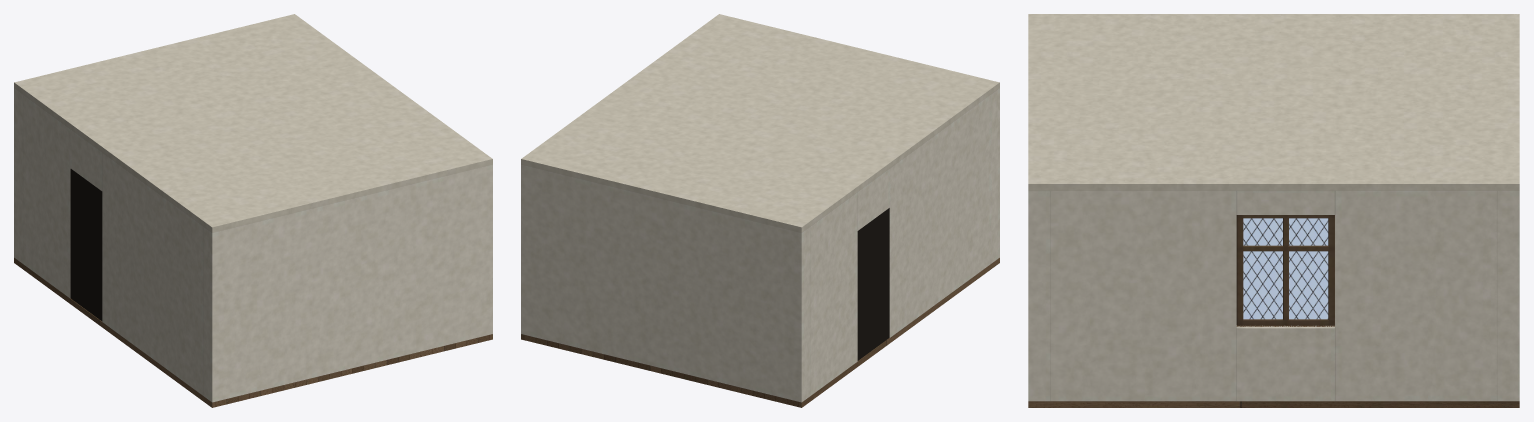
Rendered from glumdalclitchs_room.gltf.
3 renders of one model, left to right at view 1: azimuth 30°, elevation 25°; view 2: azimuth 150°, elevation 25°; view 3: azimuth 270°, elevation 25°, orthographic. The views are drawn at different scales.
Parts seen in each view (by area): view 1: MESH_Limewash, MESH_Ceiling, MESH_Shadow, MESH_Floor; view 2: MESH_Limewash, MESH_Ceiling, MESH_Shadow, MESH_Floor; view 3: MESH_Limewash, MESH_Ceiling, MESH_WindowGlass, MESH_Timber, MESH_Floor.
Boxes of the visible parts, bbox=[...] form: MESH_Limewash: bbox=[14, 88, 492, 402]; MESH_Ceiling: bbox=[14, 14, 492, 232]; MESH_Shadow: bbox=[70, 168, 102, 321]; MESH_Floor: bbox=[14, 258, 492, 407]; MESH_Limewash: bbox=[521, 88, 999, 402]; MESH_Ceiling: bbox=[521, 14, 999, 232]; MESH_Shadow: bbox=[857, 208, 889, 360]; MESH_Floor: bbox=[521, 258, 999, 407]; MESH_Limewash: bbox=[1028, 190, 1519, 401]; MESH_Ceiling: bbox=[1028, 14, 1519, 190]; MESH_WindowGlass: bbox=[1243, 218, 1328, 319]; MESH_Timber: bbox=[1236, 215, 1334, 325]; MESH_Floor: bbox=[1028, 401, 1519, 407].
Size of the model in its own units: 54 by 33.2 by 66.
Materials: 31 (31 with a texture image).
